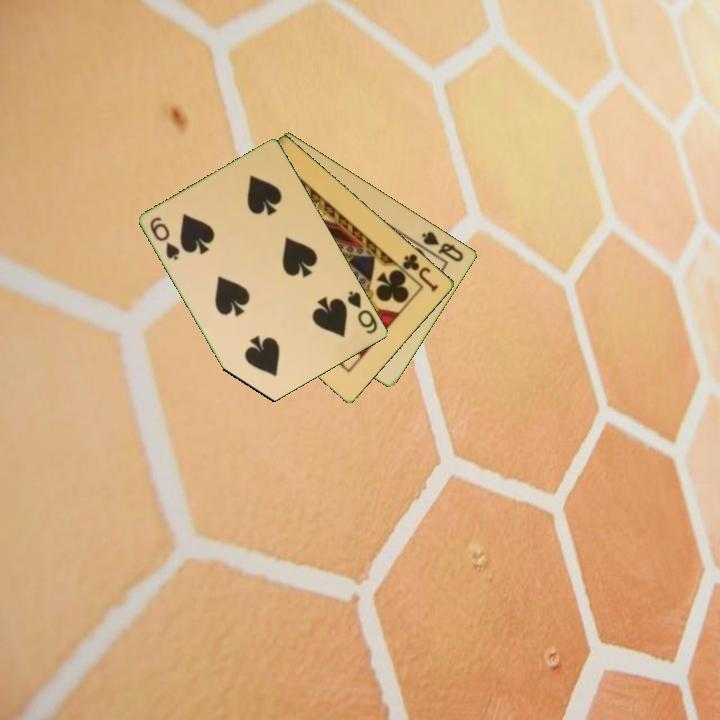6s: (344, 287, 381, 337), (147, 213, 183, 263)
Jc: (399, 250, 442, 295)
Qs: (418, 227, 467, 265)
